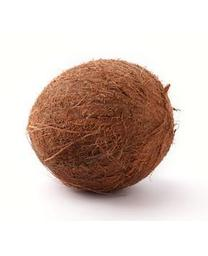coconut: (25, 57, 177, 197)
